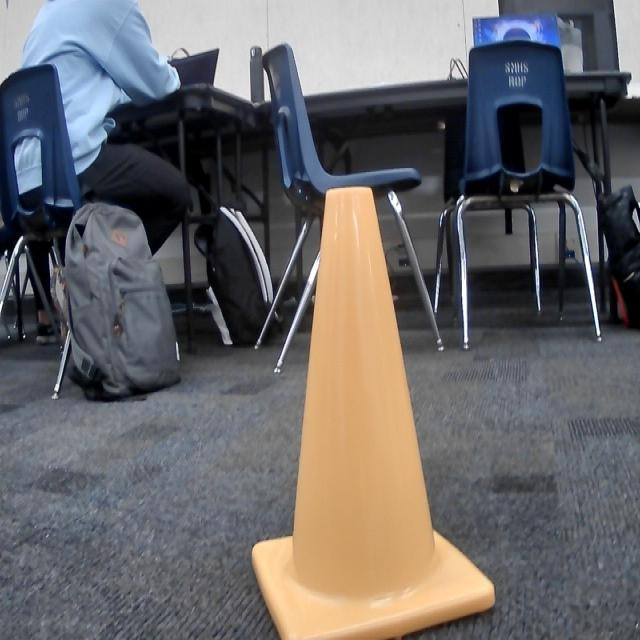cone: (246, 179, 498, 640)
